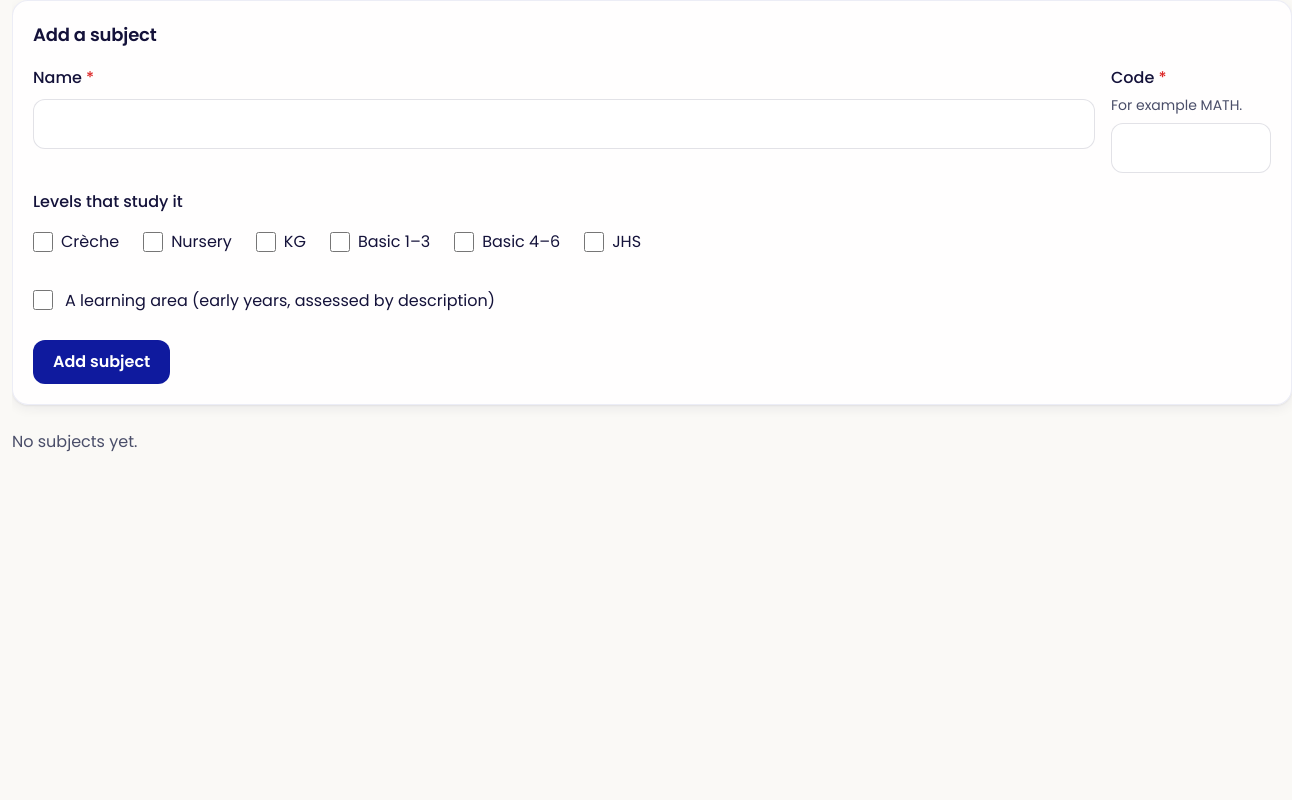
Test: SubjectsView › adds a subject for chosen levels
Type "Numeracy" into the field labelled "Name *" at (564, 124), box x1=33 y1=99 x2=1095 y2=149
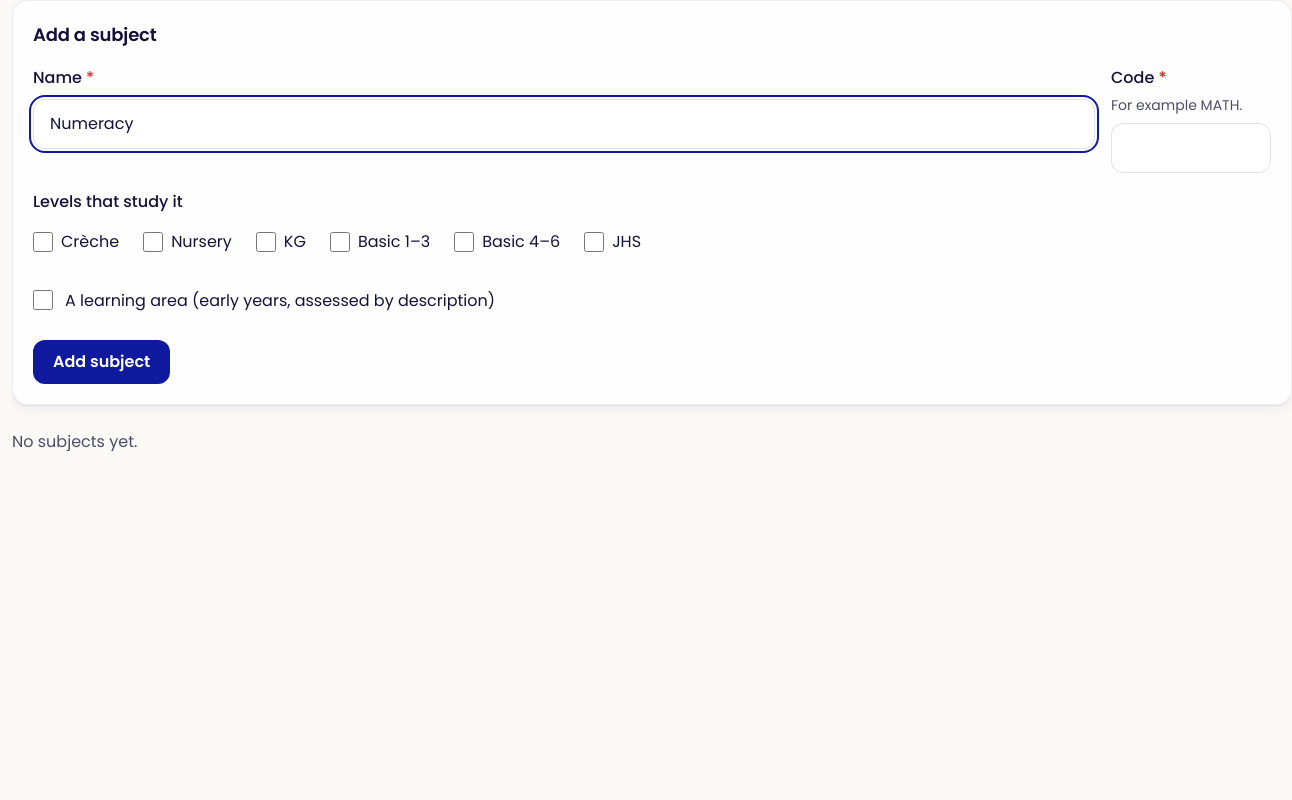
Type "NUM" into the field labelled "Code *" at (1191, 148), box x1=1111 y1=123 x2=1271 y2=173
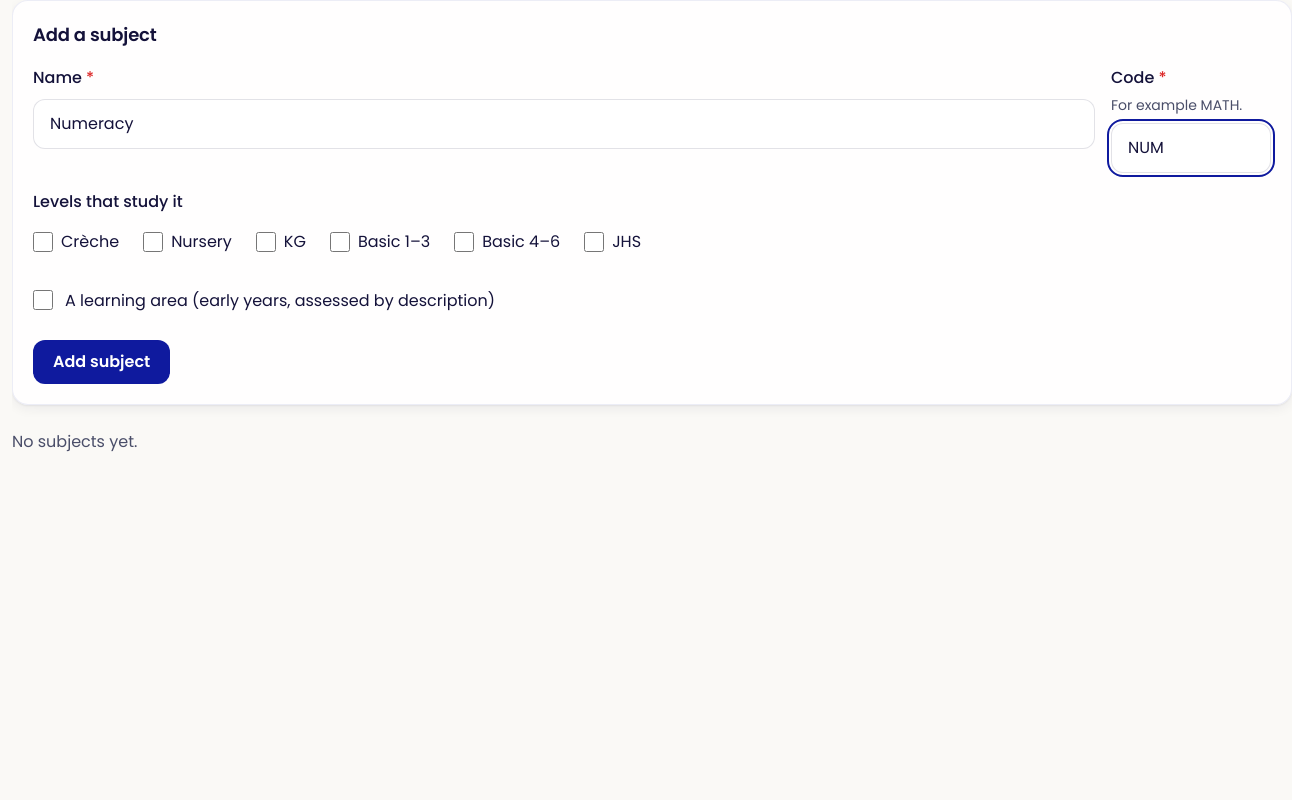
Click the checkbox labelled "KG" at (266, 242), box x1=256 y1=232 x2=276 y2=252
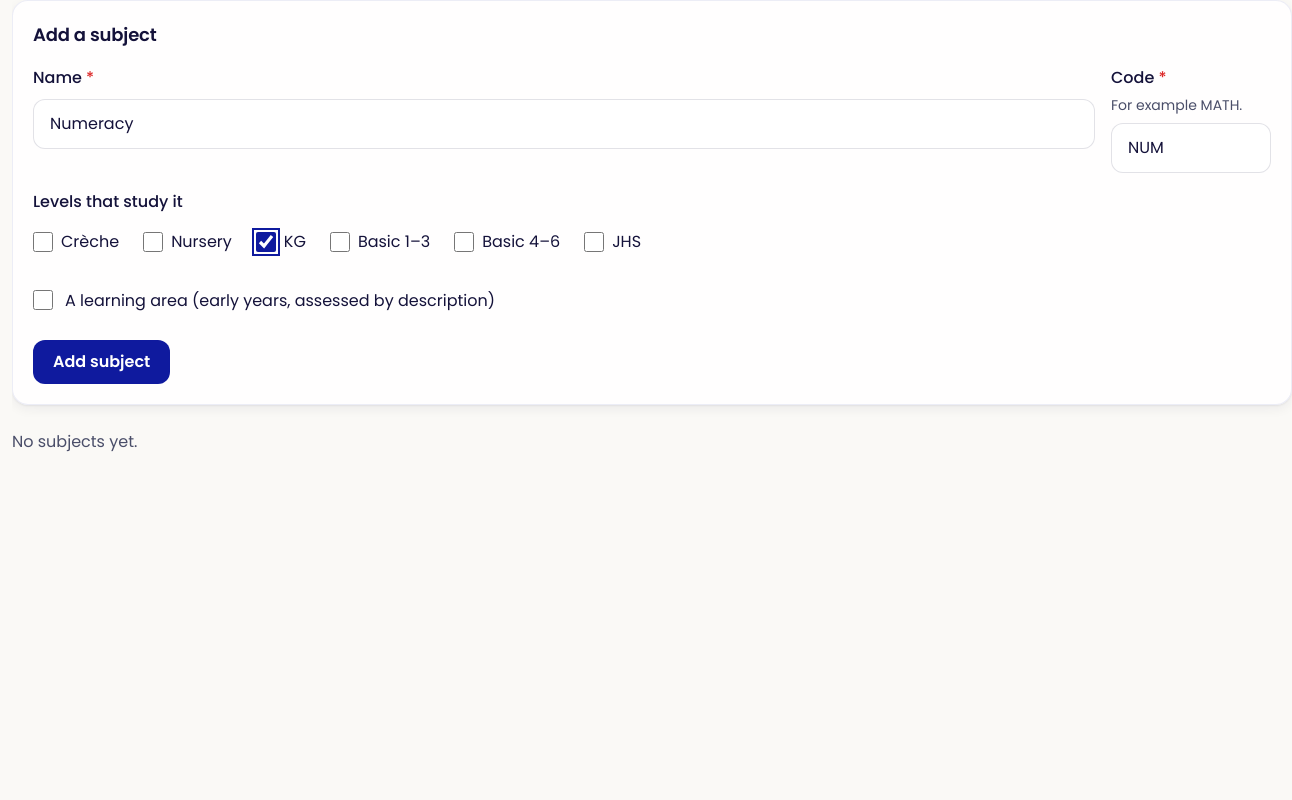
Click the checkbox labelled "A learning area (early years, assessed by description)" at (43, 300), box x1=33 y1=290 x2=53 y2=310
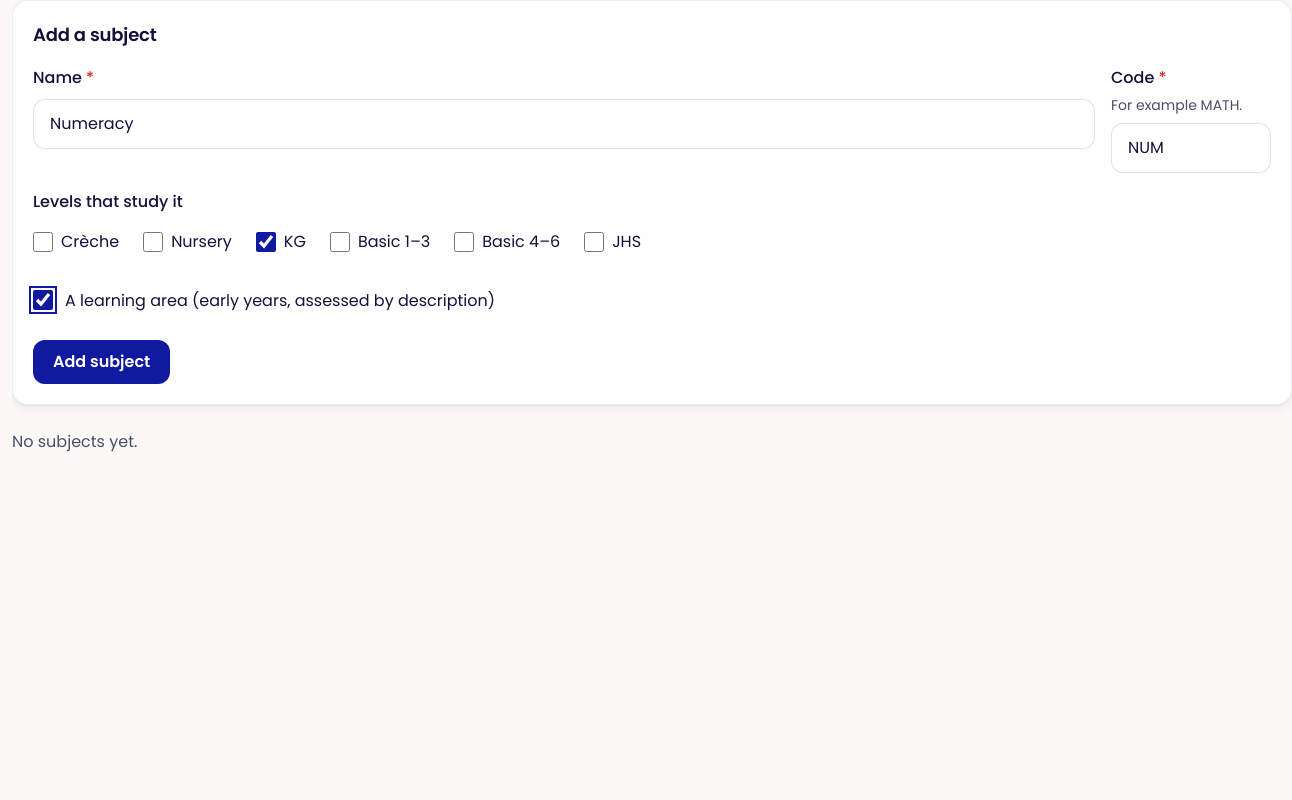
Click the button "Add subject" at (102, 362), box x1=33 y1=340 x2=170 y2=384
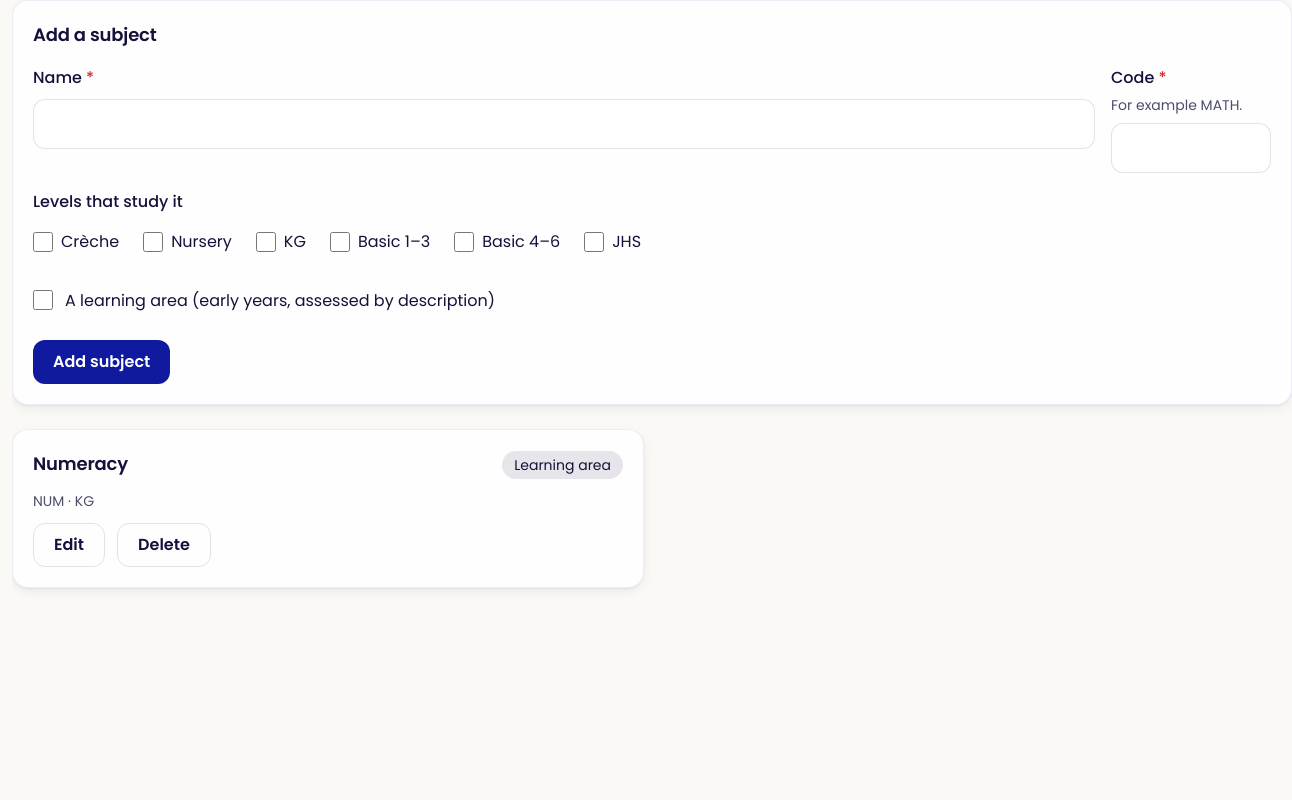
expect the element "Numeracy" is shown: met, box x1=12 y1=429 x2=644 y2=588
